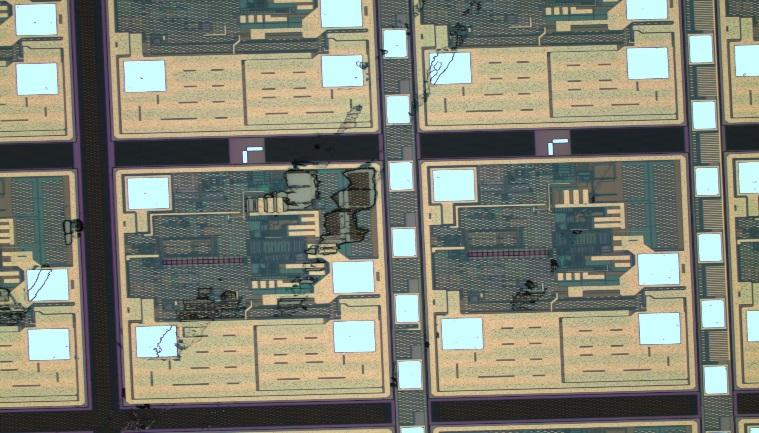SCRATCH: (18, 1, 628, 369)
